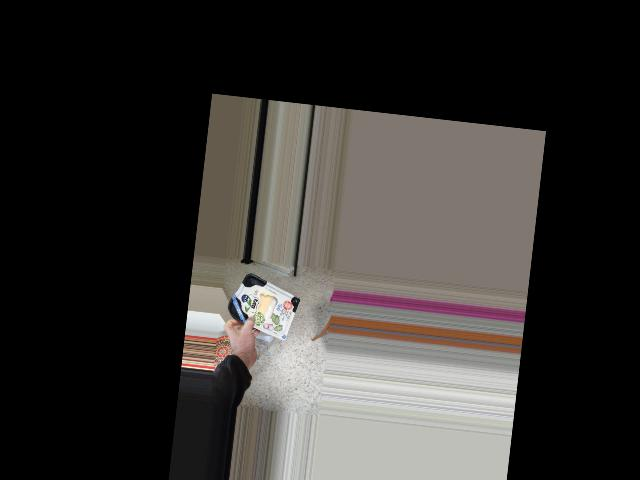cheese: (228, 281, 300, 335)
